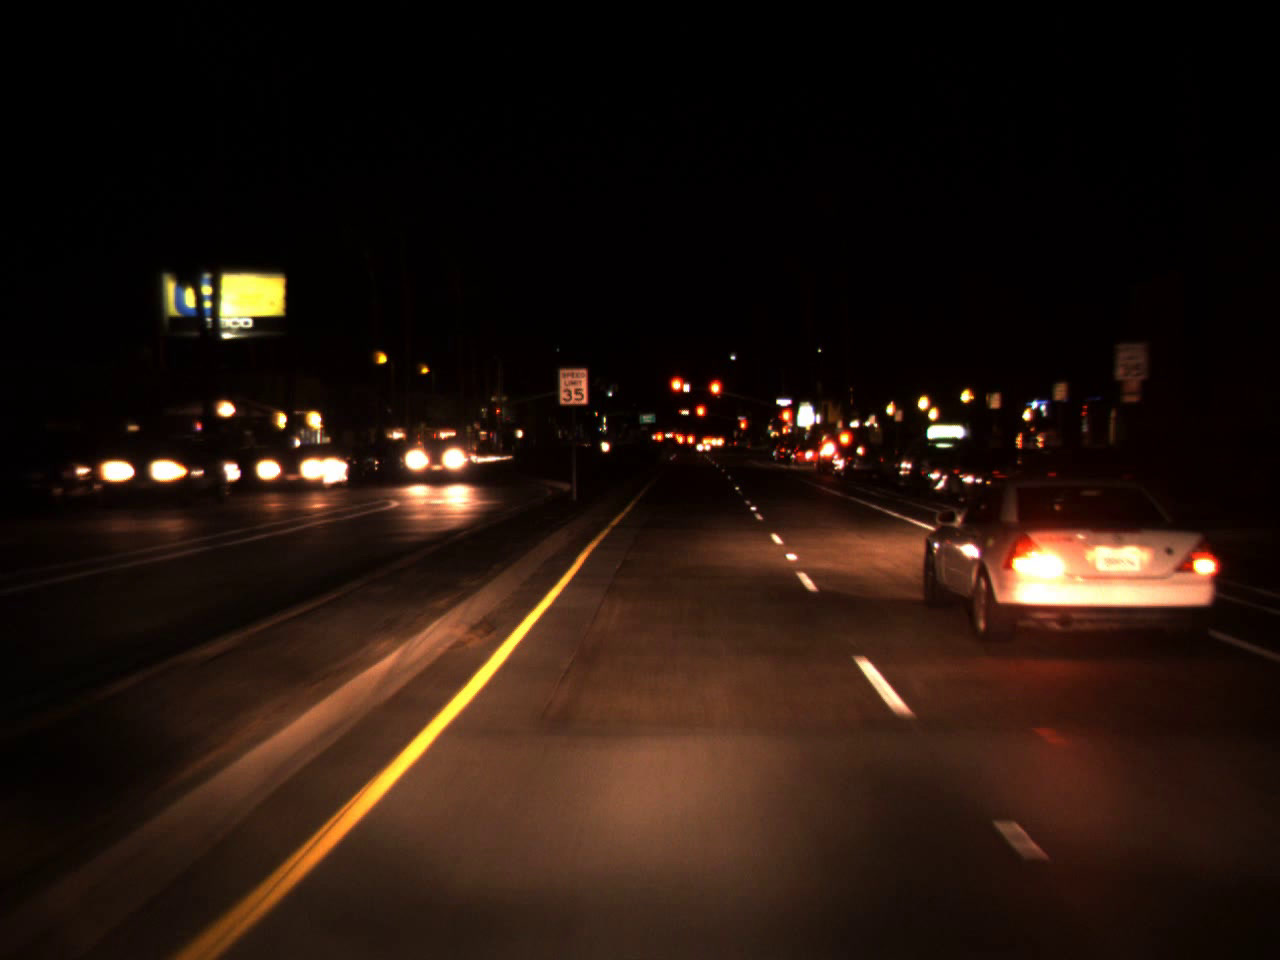stop: (777, 406, 795, 443), (667, 374, 686, 409), (707, 377, 723, 412), (693, 403, 708, 430), (739, 418, 746, 439)
